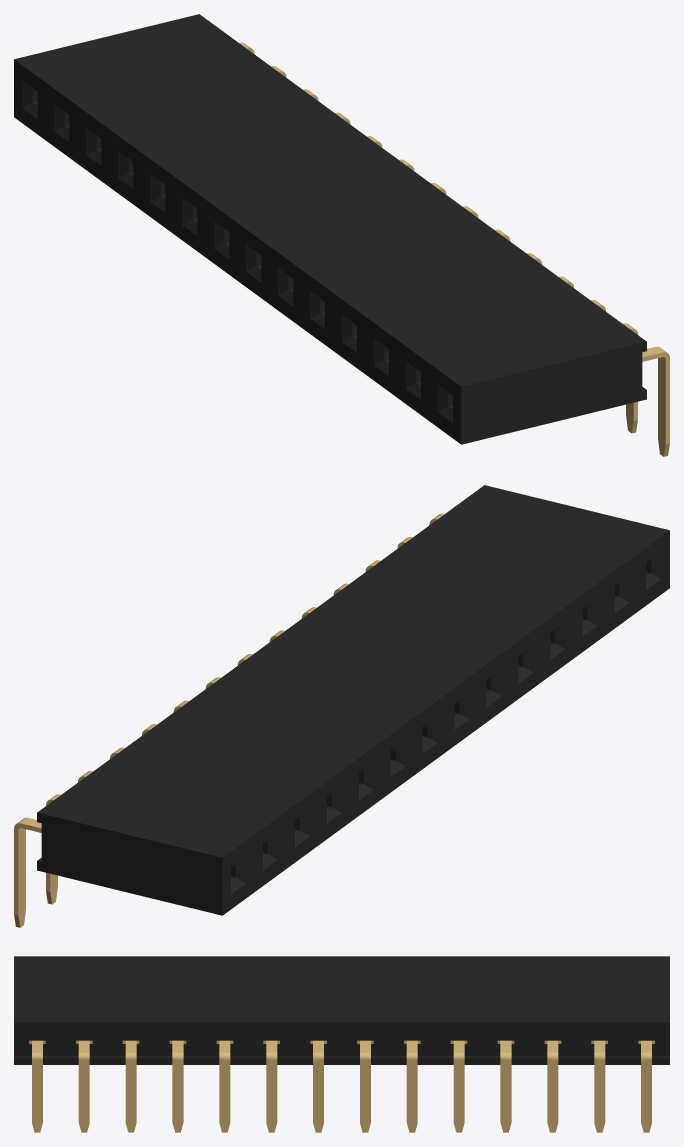
The model's file is kc-pinsocket_1x14_p2.54mm_horizontal.glb.
The picture shows the model from 3 angles, top to bottom: view 1: azimuth 30°, elevation 25°; view 2: azimuth 150°, elevation 25°; view 3: azimuth 270°, elevation 25°; orthographic projection. The views are drawn at different scales.
Visible parts, largest first — view 1: 0_0_0_0, 0.75_0.5_0.25_0.9; view 2: 0_0_0_0, 0.75_0.5_0.25_0.9; view 3: 0_0_0_0, 0.75_0.5_0.25_0.9.
Boxes of the visible parts, x1=… form: 0_0_0_0: x1=14, y1=14, x2=646, y2=444; 0.75_0.5_0.25_0.9: x1=239, y1=42, x2=669, y2=456; 0_0_0_0: x1=37, y1=485, x2=669, y2=915; 0.75_0.5_0.25_0.9: x1=14, y1=513, x2=444, y2=927; 0_0_0_0: x1=14, y1=956, x2=669, y2=1064; 0.75_0.5_0.25_0.9: x1=29, y1=1040, x2=654, y2=1132.
Bounding box in the file's own units: 1.01 × 0.584 × 3.56.
